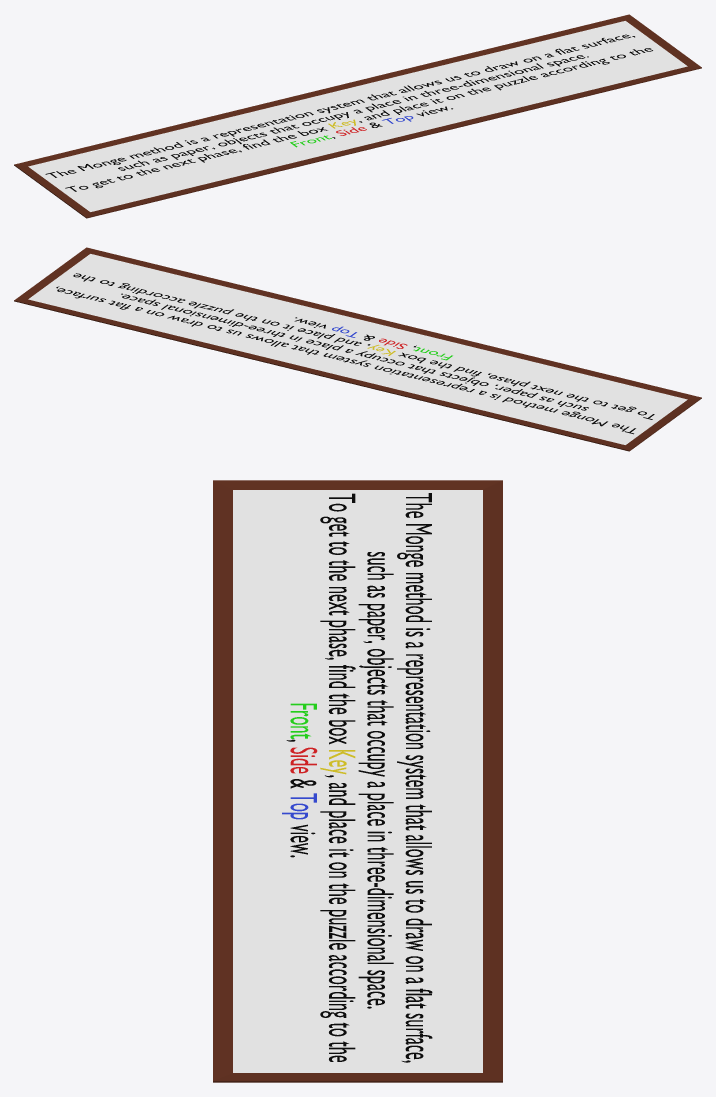
File: instruction.glb
3 renders of one model, top to bottom at view 1: azimuth 30°, elevation 25°; view 2: azimuth 150°, elevation 25°; view 3: azimuth 270°, elevation 25°, orthographic. The views are drawn at different scales.
Parts seen in each view (by area): view 1: Plane, Text; view 2: Plane, Text; view 3: Plane, Text.
Part boxes in pixels (x1,y1,x2,y2): Plane: (14,14,701,218); Text: (45,34,652,191); Plane: (14,247,701,451); Text: (56,273,654,434); Plane: (213,480,502,1082); Text: (282,493,432,1062).
Size of the model in its own units: 37.04 by 0.06 by 7.56.
